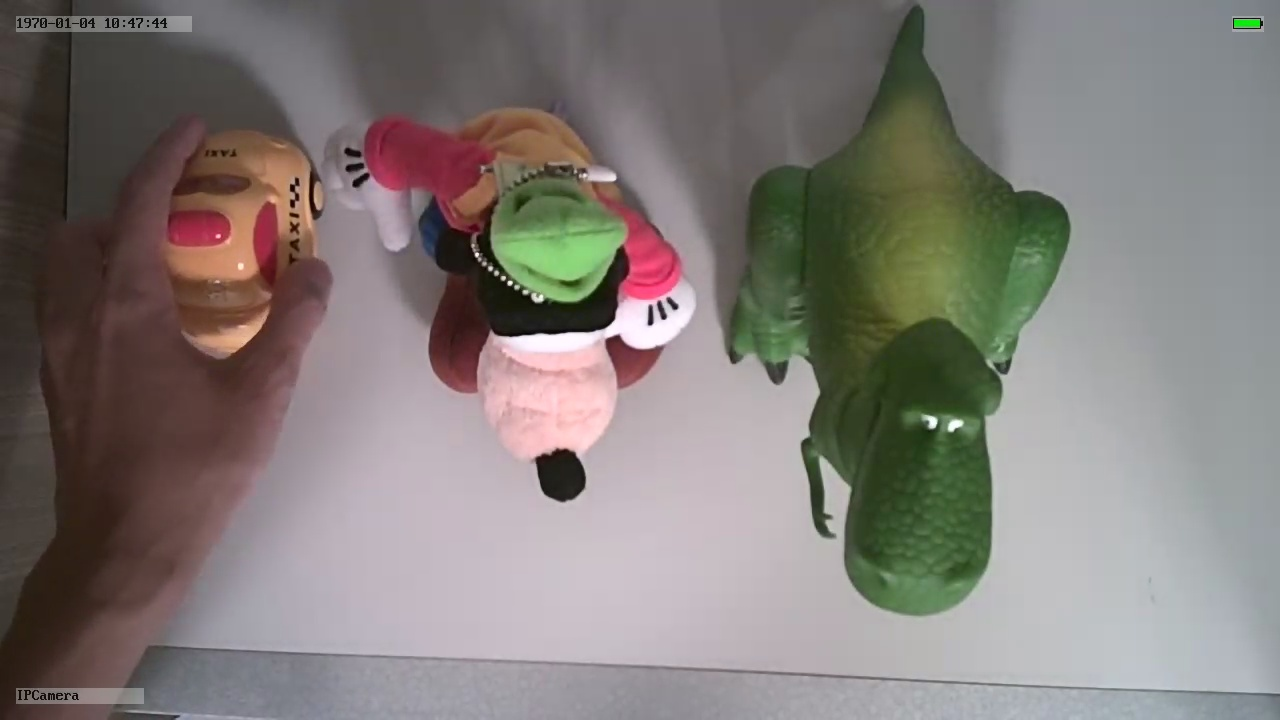goofy: (320, 104, 701, 507)
rex: (727, 91, 1069, 621)
